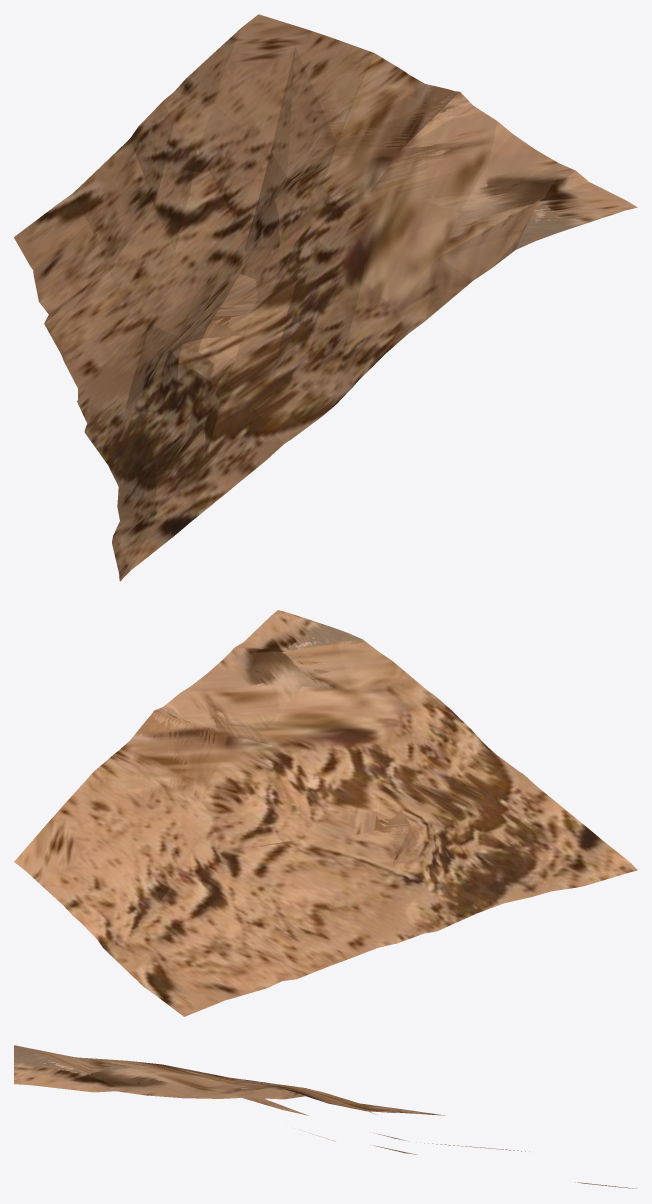
3 views of the same model, one above another, from view 1: azimuth 30°, elevation 25°; view 2: azimuth 150°, elevation 25°; view 3: azimuth 270°, elevation 25° (orthographic). The views are drawn at different scales.
Bounding box in the file's own units: 0.8231 × 0.3764 × 1.04.
2 materials, 2 textured.
